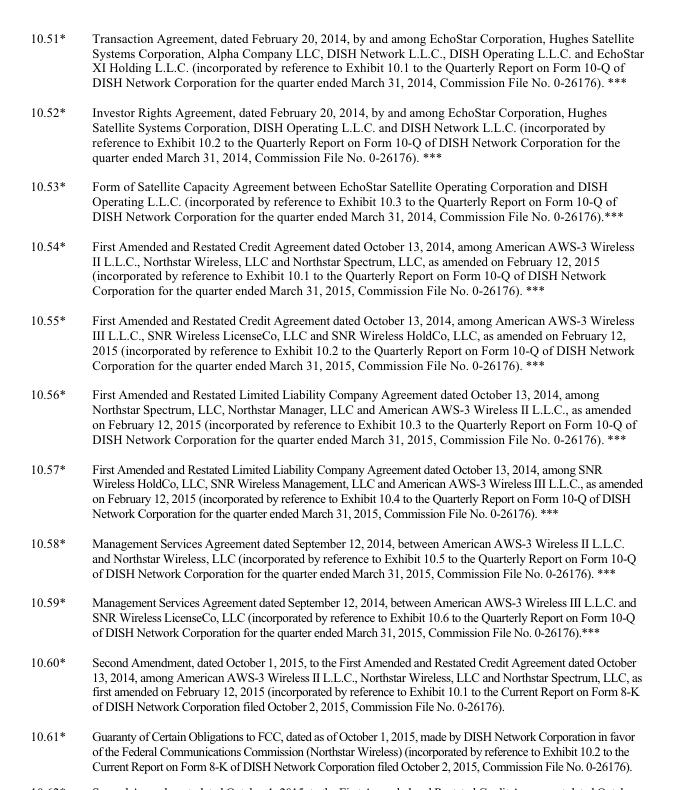table: (29, 28, 643, 758)
table column: (78, 28, 643, 758), (29, 28, 78, 758)
table row: (29, 378, 643, 453), (29, 96, 643, 170), (29, 230, 643, 304), (29, 304, 643, 378), (29, 453, 643, 527), (29, 646, 643, 720), (29, 28, 643, 96), (29, 170, 643, 230), (29, 586, 643, 646), (29, 527, 643, 586), (29, 720, 643, 758)
